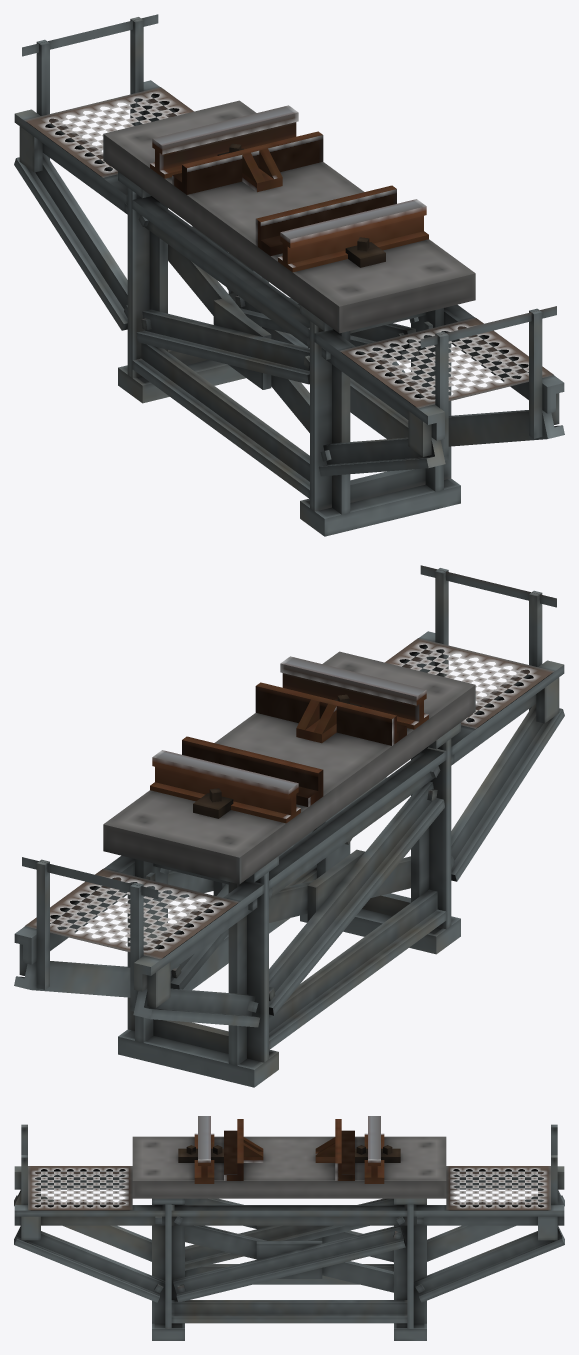
Rendered from mvp_ir_rail_bridge.obj.
3 renders of one model, top to bottom at view 1: azimuth 30°, elevation 25°; view 2: azimuth 150°, elevation 25°; view 3: azimuth 270°, elevation 25°, orthographic. The views are drawn at different scales.
Parts seen in each view (by area): view 1: RAIL_BASE_mvp_rail_bridge, RAIL_RIGHT_mvp_rail_bridge, RAIL_LEFT_mvp_rail_bridge; view 2: RAIL_BASE_mvp_rail_bridge, RAIL_LEFT_mvp_rail_bridge, RAIL_RIGHT_mvp_rail_bridge; view 3: RAIL_BASE_mvp_rail_bridge, RAIL_RIGHT_mvp_rail_bridge, RAIL_LEFT_mvp_rail_bridge.
Part boxes in pixels (x1=…): RAIL_BASE_mvp_rail_bridge: x1=14, y1=14, x2=564, y2=536; RAIL_RIGHT_mvp_rail_bridge: x1=172, y1=131, x2=323, y2=194; RAIL_LEFT_mvp_rail_bridge: x1=255, y1=185, x2=396, y2=256; RAIL_BASE_mvp_rail_bridge: x1=14, y1=565, x2=564, y2=1087; RAIL_LEFT_mvp_rail_bridge: x1=255, y1=682, x2=406, y2=745; RAIL_RIGHT_mvp_rail_bridge: x1=182, y1=736, x2=323, y2=807; RAIL_BASE_mvp_rail_bridge: x1=14, y1=1116, x2=564, y2=1340; RAIL_RIGHT_mvp_rail_bridge: x1=335, y1=1119, x2=354, y2=1180; RAIL_LEFT_mvp_rail_bridge: x1=224, y1=1119, x2=243, y2=1180.
Bounding box in the file's own units: 1 × 1.91 × 5.27.
2 materials, 2 textured.
